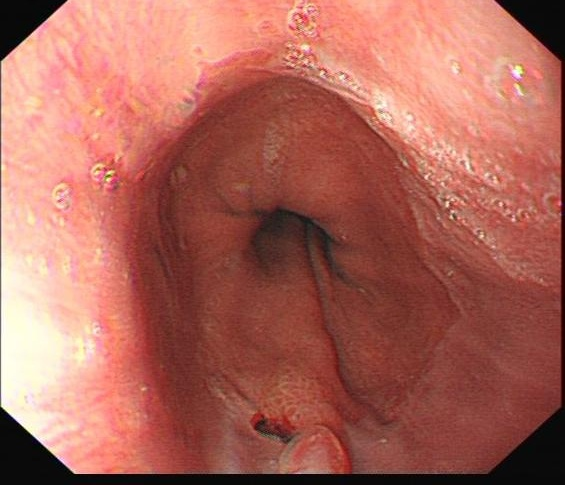Polyp: (270, 422, 359, 477)
